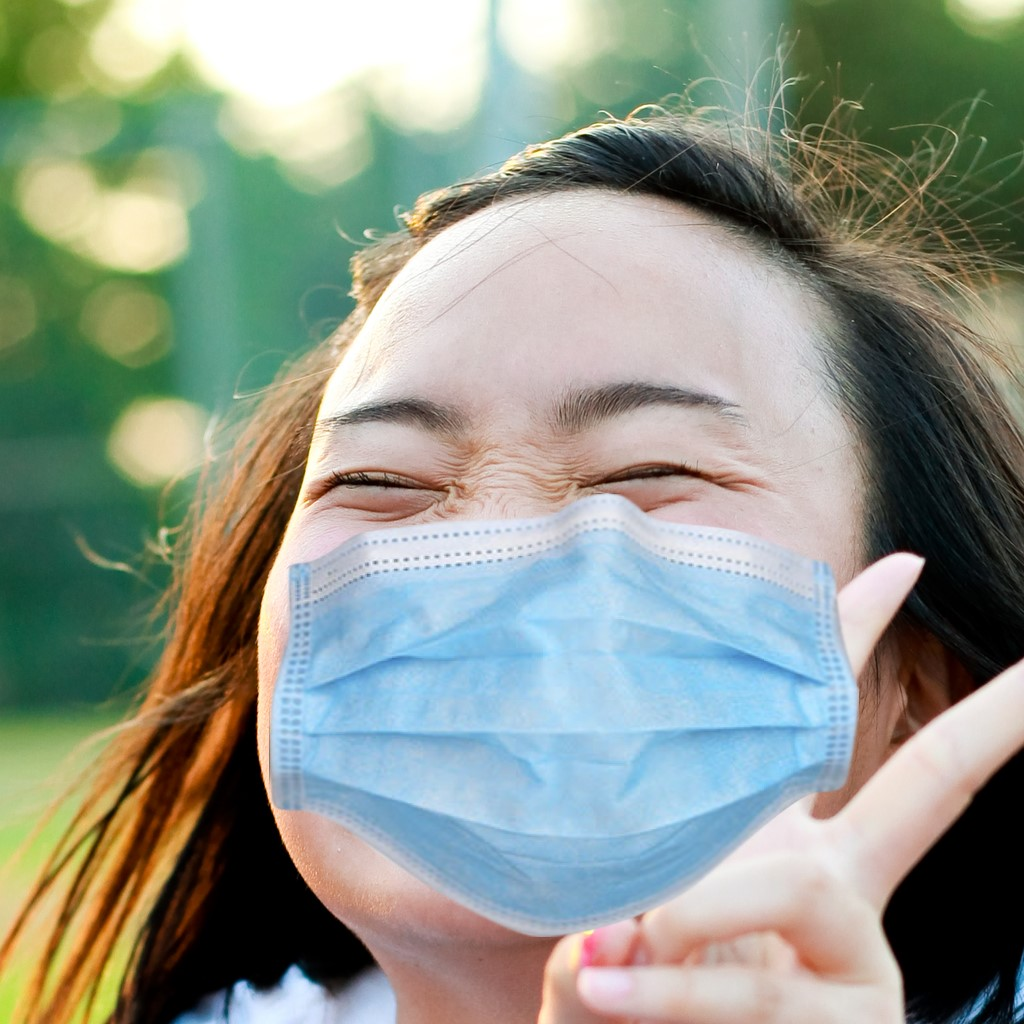con_mascara: (276, 182, 883, 962)
